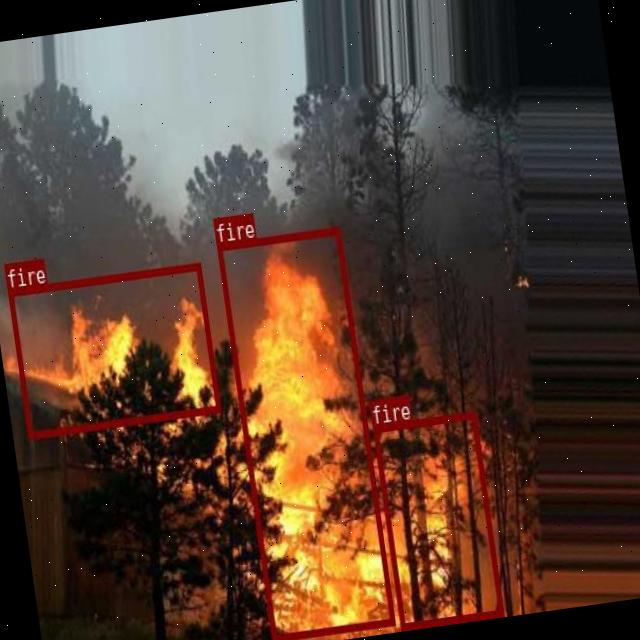fire: (216, 226, 394, 640), (7, 262, 220, 439), (372, 411, 503, 628)
